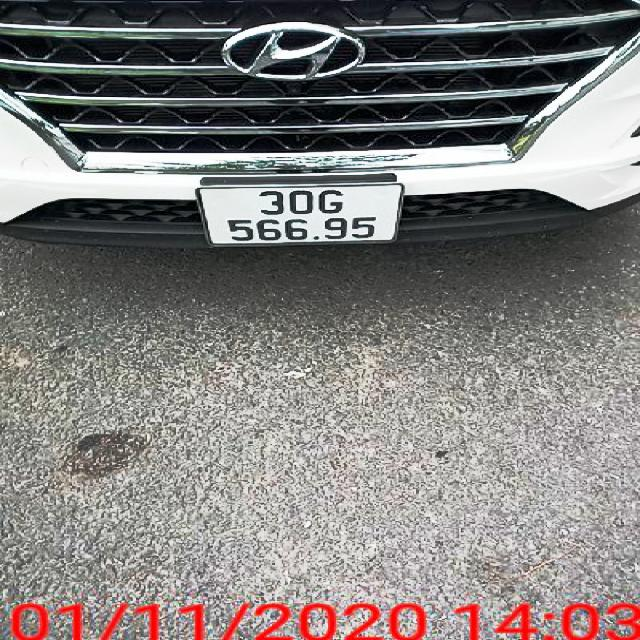license_plate: (205, 186, 406, 248)
